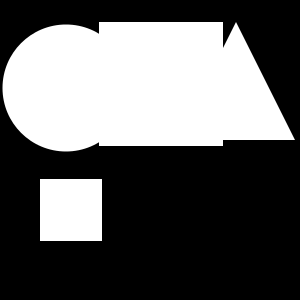circle: (99, 22, 223, 146), (40, 179, 102, 241)
rectangle: (2, 24, 130, 152)
triangle: (177, 22, 295, 140)
